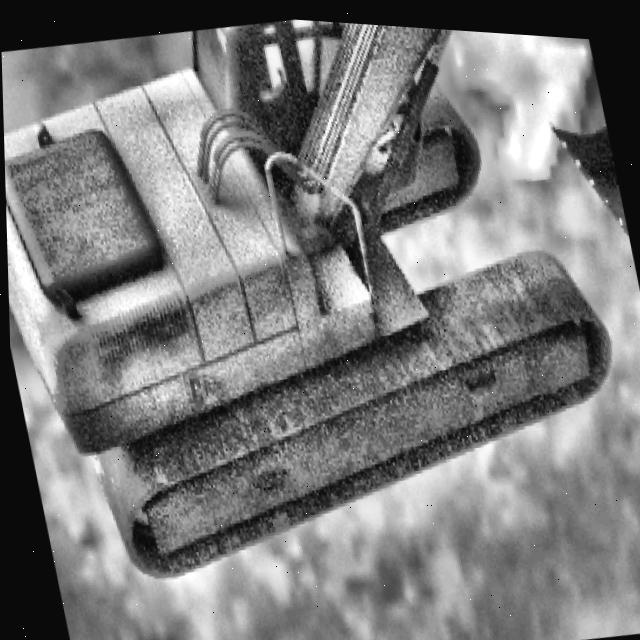excavator: (0, 0, 640, 617)
